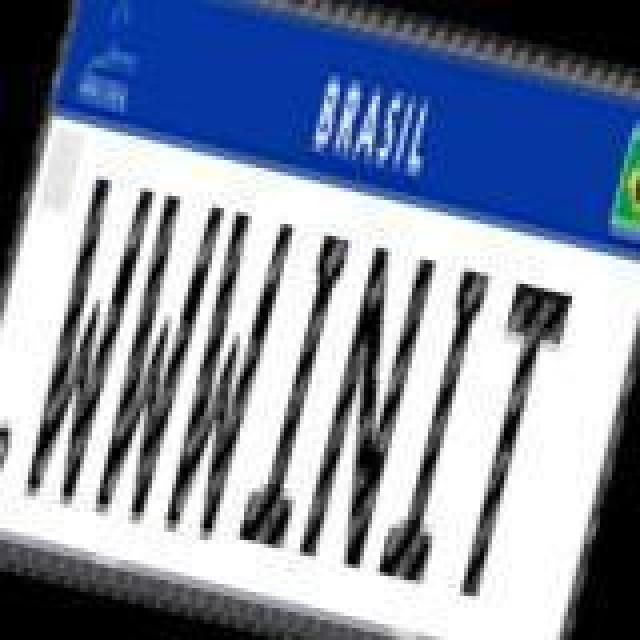I: (236, 226, 364, 558), (376, 258, 504, 590)
N: (296, 240, 440, 576)
T: (436, 274, 572, 606)
W: (16, 172, 160, 516), (84, 188, 228, 532), (152, 204, 296, 548)
